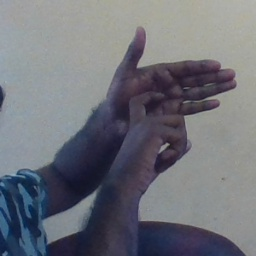R: (91, 23, 239, 180)
